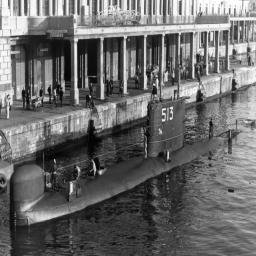submarine: (10, 93, 252, 230)
